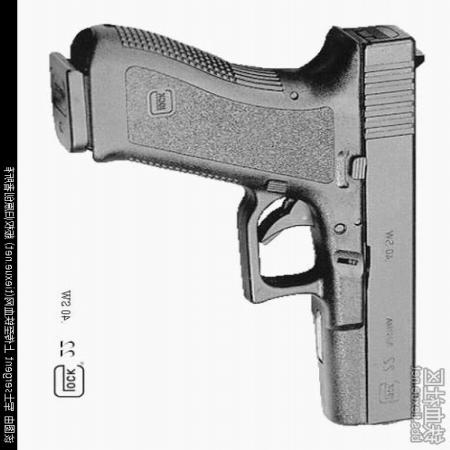Pistol: (48, 25, 425, 428)
